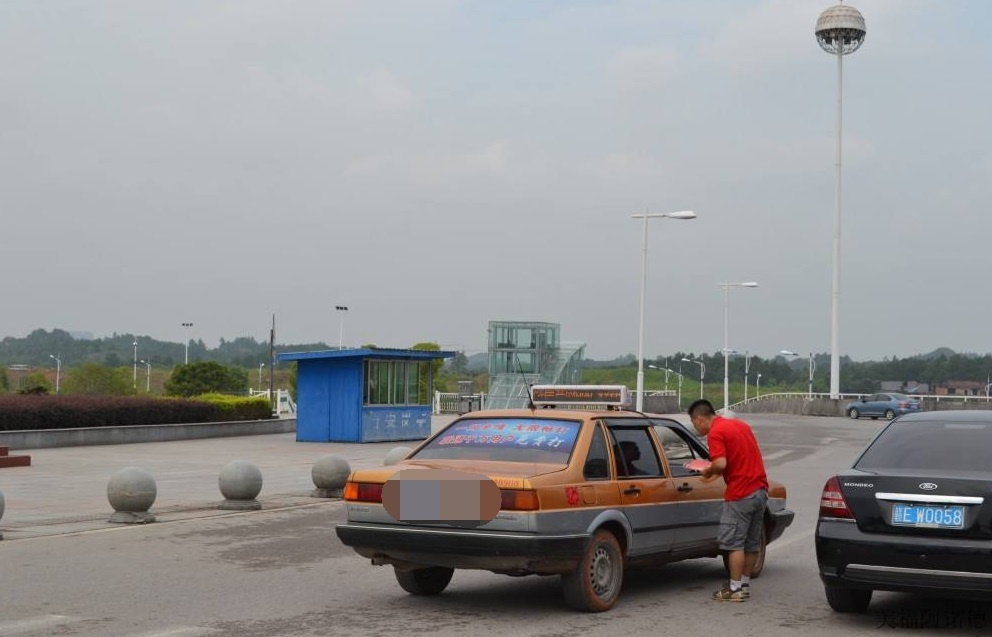family sedan: (808, 379, 992, 596)
taxi: (341, 368, 784, 600)
